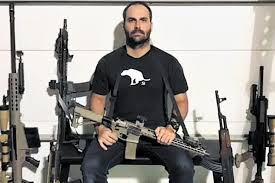Arma Real: (70, 101, 222, 175), (1, 1, 39, 183), (46, 9, 95, 146), (234, 61, 275, 178), (210, 87, 240, 183)
